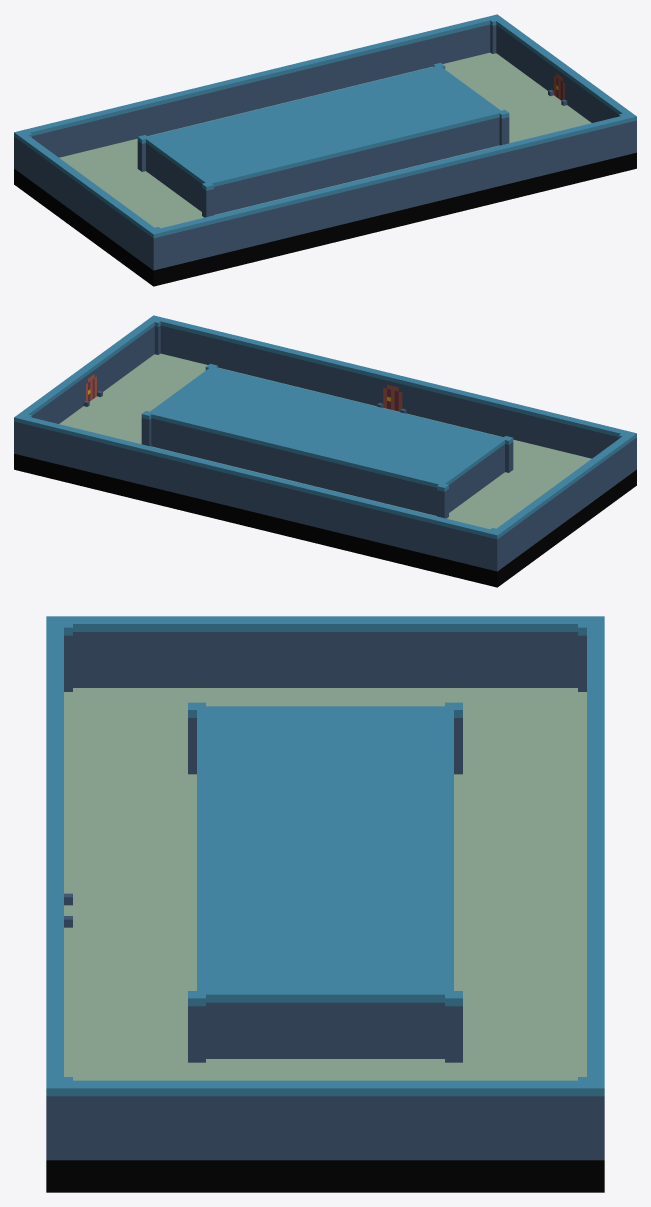
File: hab1.8.obj
3 renders of one model, top to bottom at view 1: azimuth 30°, elevation 25°; view 2: azimuth 150°, elevation 25°; view 3: azimuth 270°, elevation 25°, orthographic. The views are drawn at different scales.
Size of the model in its own units: 126 by 13 by 63.
Materials: 1 (1 with a texture image).
